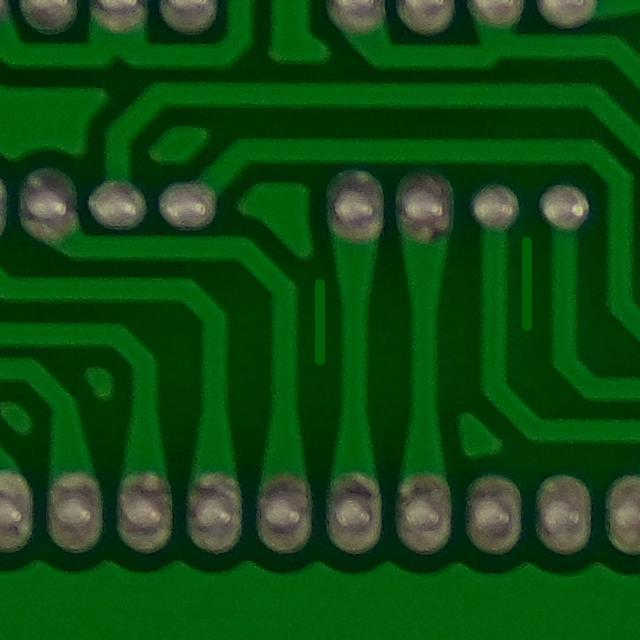spurious_copper: (291, 266, 349, 375)
